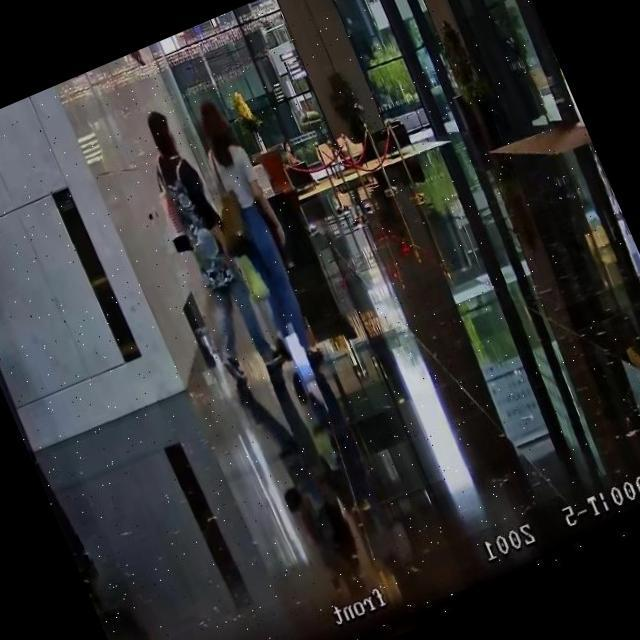person: (120, 103, 284, 391), (179, 90, 332, 366), (280, 137, 300, 165)
